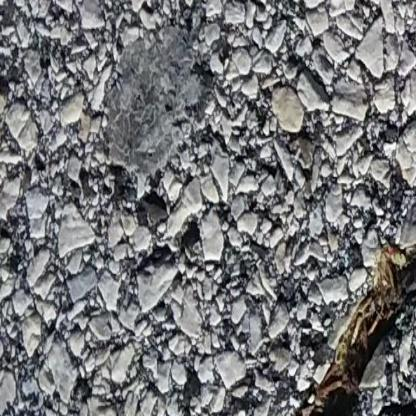Cracks: (176, 228, 416, 416)
